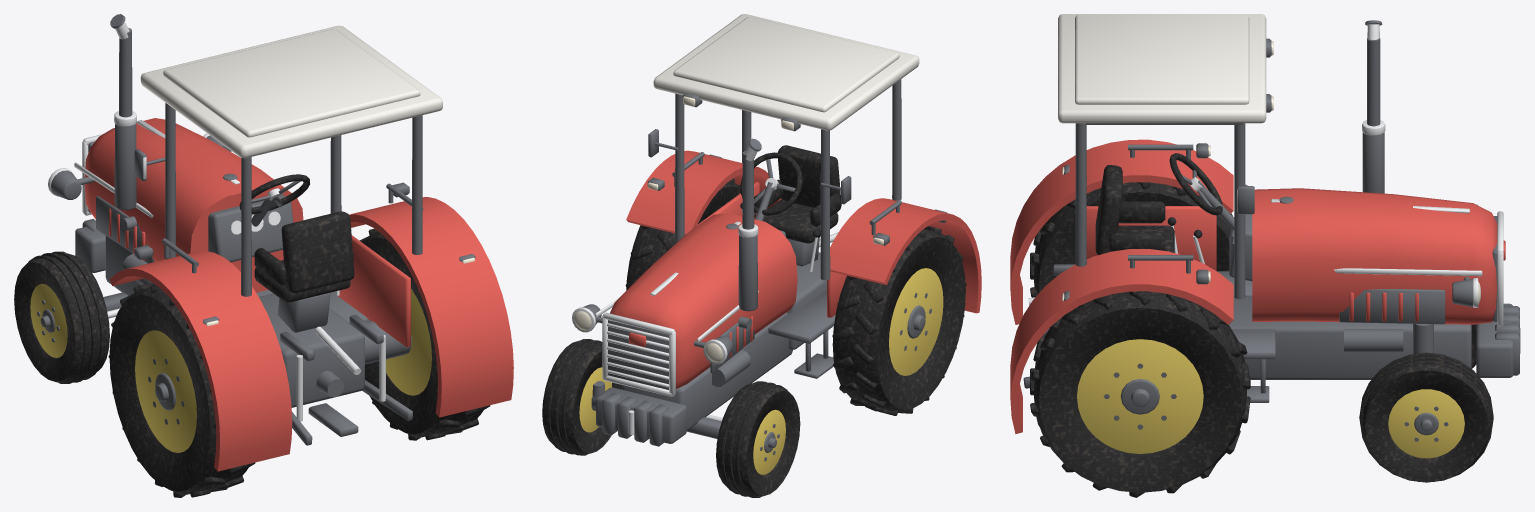
Rendered from OW_FarmTractor.fbx.
3 renders of one model, left to right at view 1: azimuth 30°, elevation 25°; view 2: azimuth 150°, elevation 25°; view 3: azimuth 270°, elevation 25°, orthographic. The views are drawn at different scales.
Parts seen in each view (by area): view 1: Chassis, Wheel_RL, Wheel_FL, Wheel_RR; view 2: Chassis, Wheel_RL, Wheel_FL, Wheel_FR, Wheel_RR; view 3: Chassis, Wheel_RR, Wheel_FR, Wheel_RL.
Boxes of the visible parts, box(x1,y1,x2,y2) form: Chassis: box(48, 14, 513, 471); Wheel_RL: box(108, 282, 255, 497); Wheel_FL: box(14, 251, 109, 383); Wheel_RR: box(359, 228, 490, 440); Chassis: box(572, 14, 981, 446); Wheel_RL: box(832, 226, 966, 415); Wheel_FL: box(716, 381, 800, 497); Wheel_FR: box(542, 339, 622, 455); Wheel_RR: box(625, 178, 740, 290); Chassis: box(1010, 14, 1520, 434); Wheel_RR: box(1030, 291, 1250, 497); Wheel_FR: box(1359, 352, 1493, 482); Wheel_RL: box(1030, 182, 1232, 297).
Bounding box in the file's own units: 2.2 × 2.68 × 3.28.
